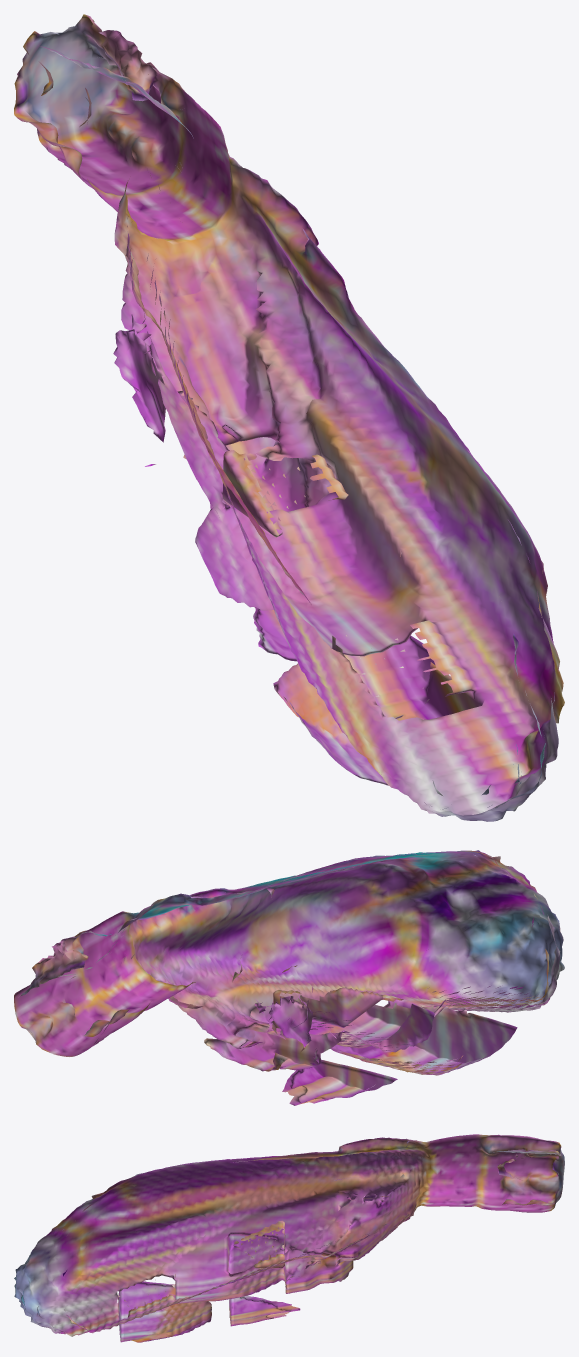
File: 0-world.glb
3 views of the same model, one above another, from view 1: azimuth 30°, elevation 25°; view 2: azimuth 150°, elevation 25°; view 3: azimuth 270°, elevation 25° (orthographic). The views are drawn at different scales.
Parts seen in each view (by area): view 1: world; view 2: world; view 3: world.
Boxes of the visible parts, left/top/right/bottom form: world: left=14, top=14, right=564, bottom=821; world: left=14, top=850, right=564, bottom=1105; world: left=14, top=1134, right=564, bottom=1342.
Size of the model in its own units: 5.53 by 9.08 by 20.99.
